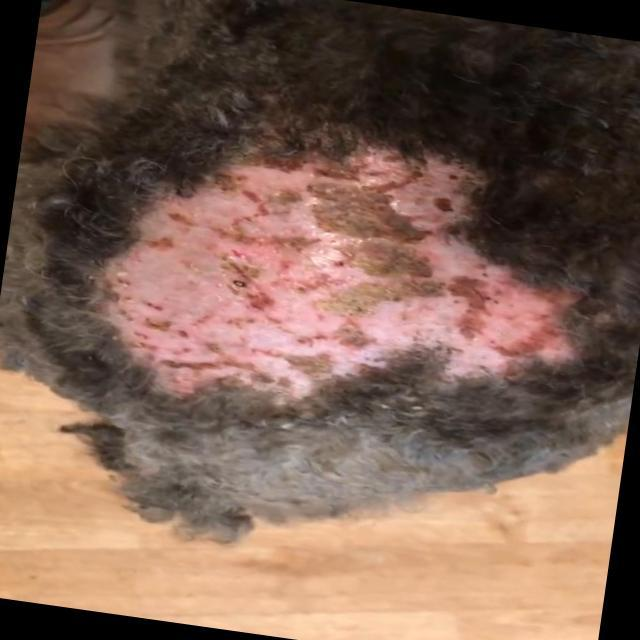allergic dermatitis: (85, 142, 583, 436)
